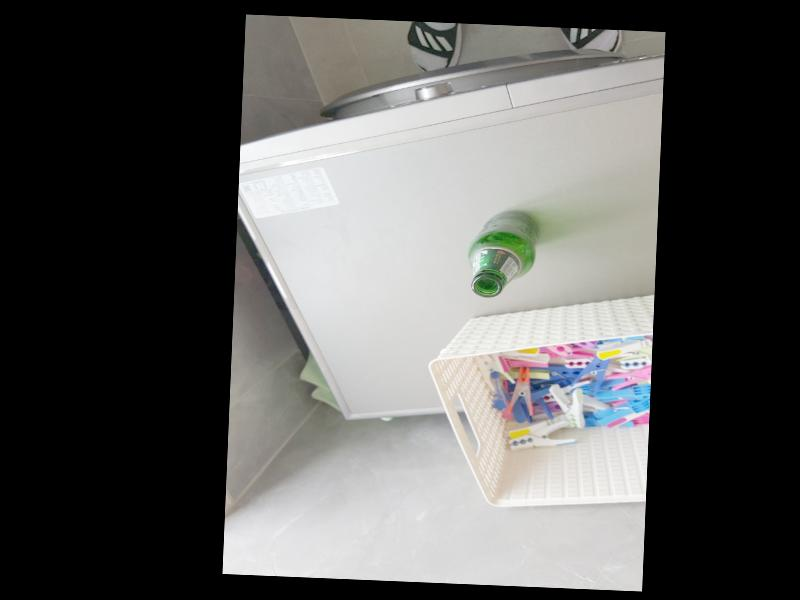Beer: (470, 207, 539, 298)
